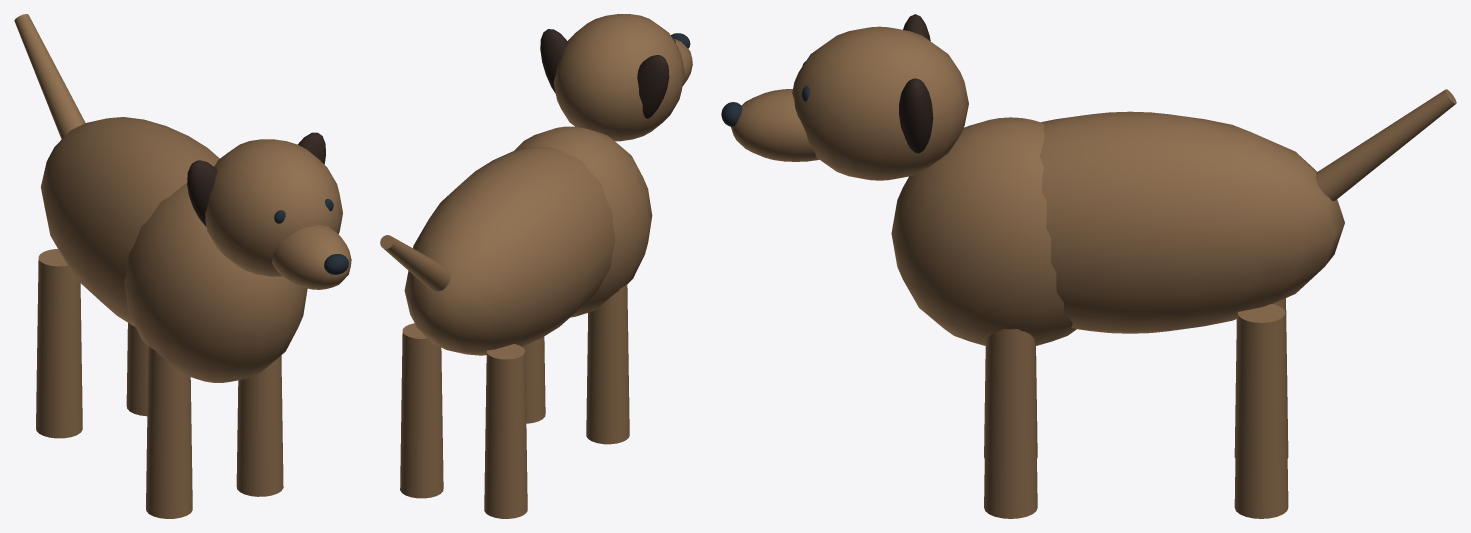
File: dog-lod0.glb
3 renders of one model, left to right at view 1: azimuth 30°, elevation 25°; view 2: azimuth 150°, elevation 25°; view 3: azimuth 270°, elevation 25°, orthographic. The views are drawn at different scales.
Visible parts, largest first — view 1: leg (×4), chest, body, head, snout, tail, ear (×2), nose; view 2: body, leg (×4), head, chest, ear (×2), tail; view 3: body, chest, leg (×2), head, tail, snout, ear.
Boxes of the visible parts, x1,y1,x2,y2 form: leg (×4): (36,249,283,518); chest: (124,183,307,382); body: (41,117,219,327); head: (205,139,342,276); snout: (272,225,351,289); tail: (14,14,85,139); ear (×2): (187,132,325,226); nose: (324,254,348,274); body: (404,146,615,355); leg (×4): (400,284,629,518); head: (553,14,684,141); chest: (514,126,652,317); ear (×2): (540,29,669,118); tail: (380,235,450,291); body: (1039,111,1344,333); chest: (891,117,1076,346); leg (×2): (984,304,1288,518); head: (792,26,968,180); tail: (1316,89,1456,201); snout: (731,89,819,161); ear: (899,78,933,153).
Size of the model in its own units: 0.34 by 0.83 by 1.23.
